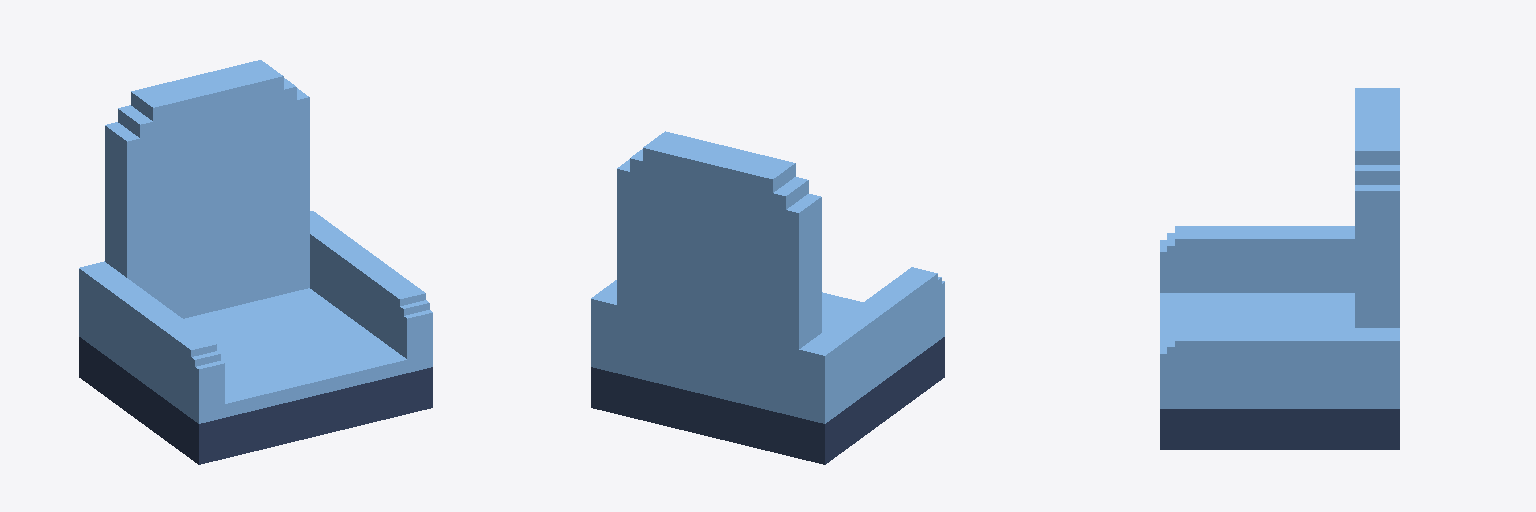
The picture shows the model from 3 angles: view 1: azimuth 30°, elevation 25°; view 2: azimuth 150°, elevation 25°; view 3: azimuth 270°, elevation 25°; orthographic projection.
Parts seen in each view (by area): view 1: object 1; view 2: object 1; view 3: object 1.
Part boxes in pixels (x1,y1,x2,y2): object 1: (79, 60, 432, 464); object 1: (591, 131, 944, 464); object 1: (1160, 88, 1399, 449).
Size of the model in its own units: 3.6 by 4 by 3.2.
Materials: 1 (1 with a texture image).